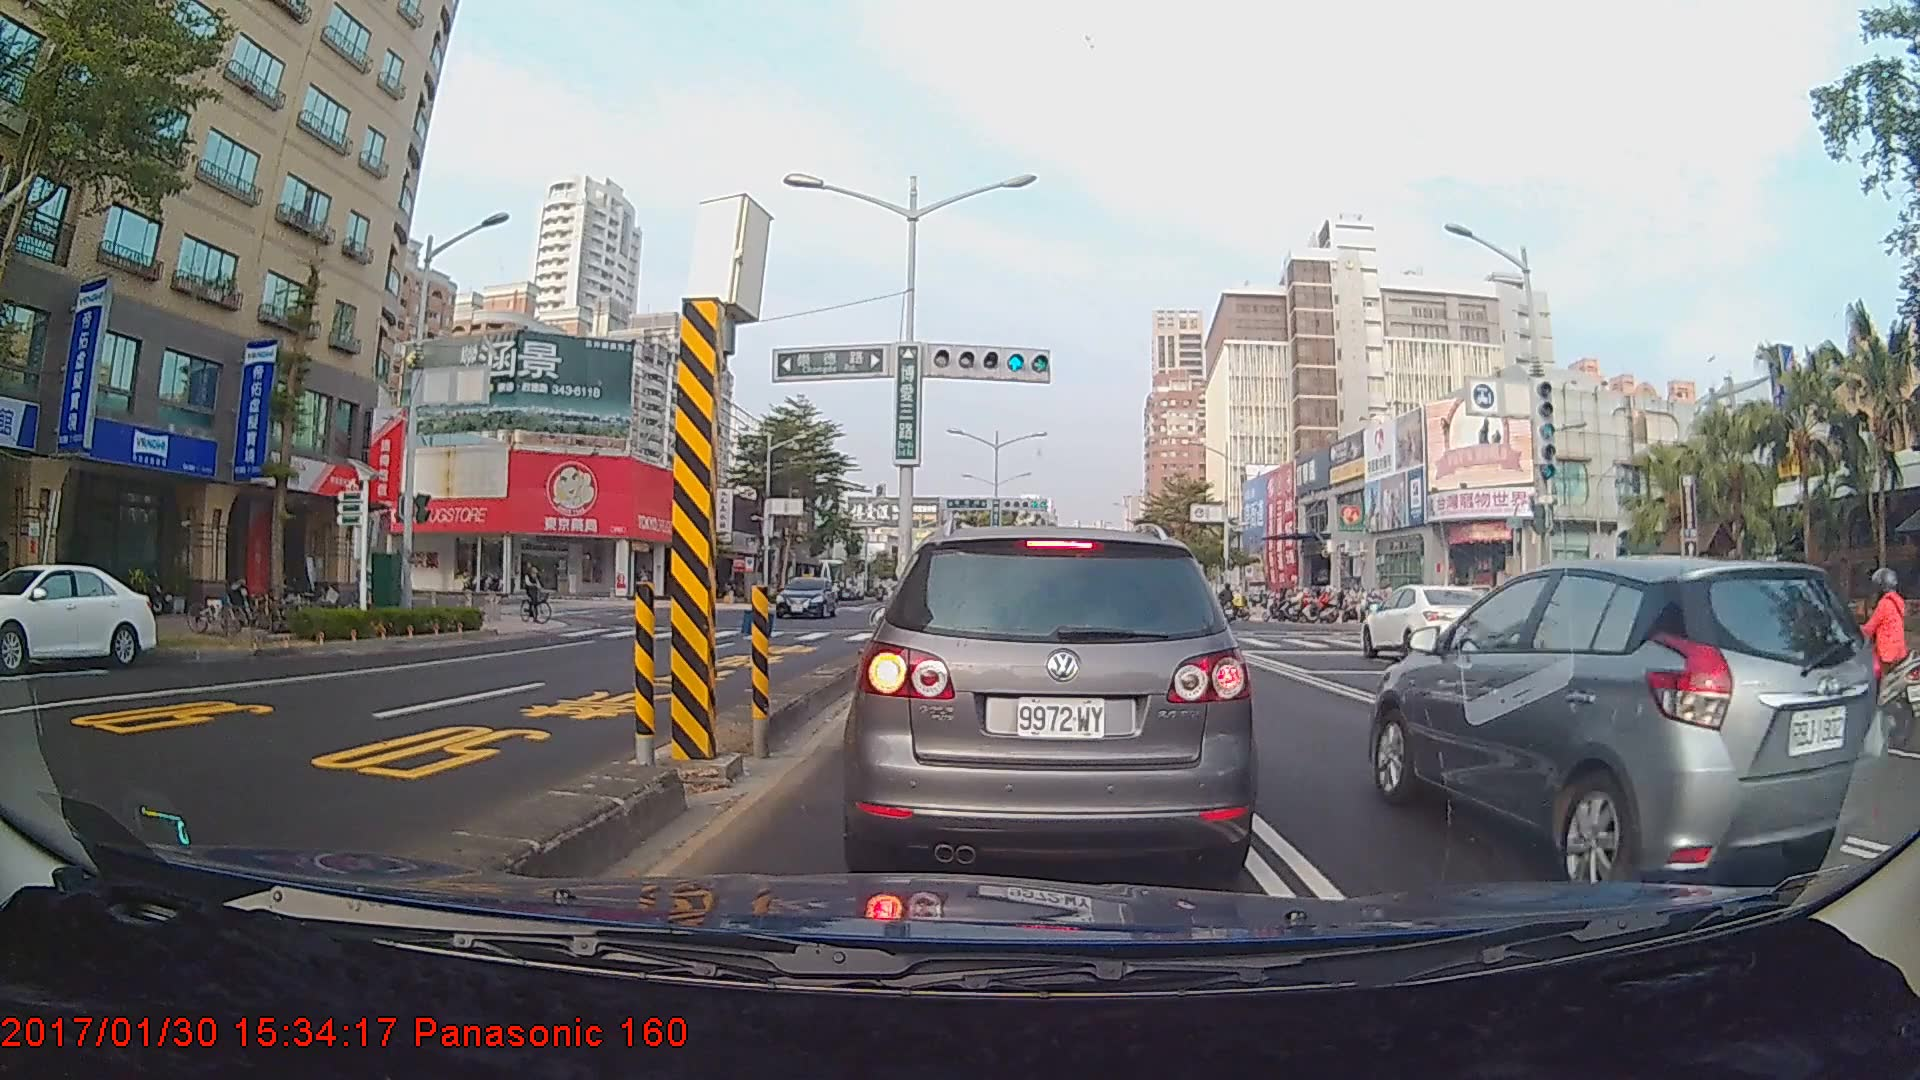rider: (518, 559, 561, 629)
vehicle: (1368, 554, 1892, 887), (852, 521, 1250, 884), (0, 561, 157, 671), (1356, 584, 1496, 669), (773, 574, 838, 618)
